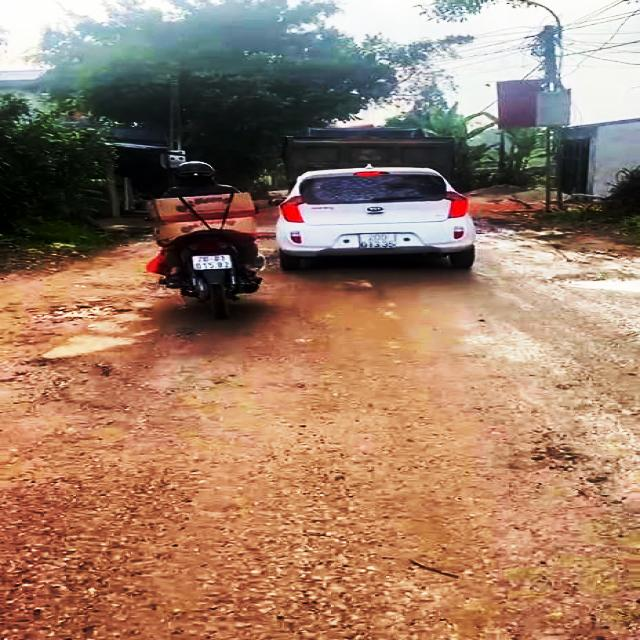pothole: (3, 354, 124, 401), (46, 298, 146, 322), (557, 273, 640, 297)
